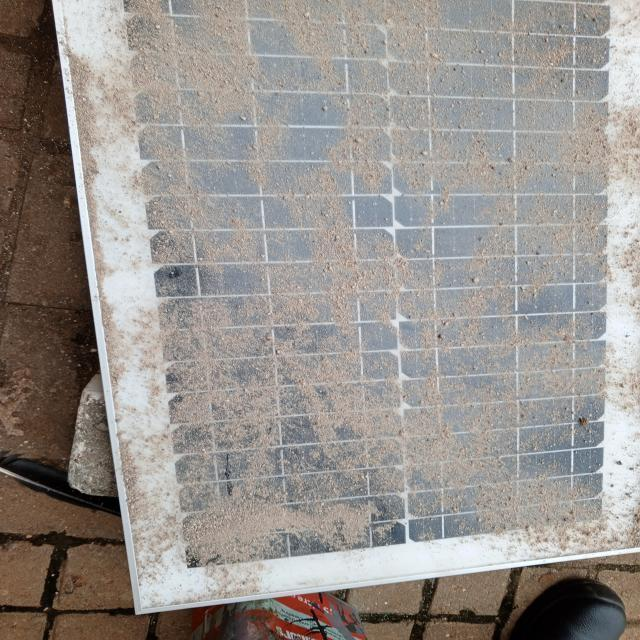Anomaly Solar Panel: (155, 4, 613, 536)
Surface Contaminant: (155, 4, 613, 536)
